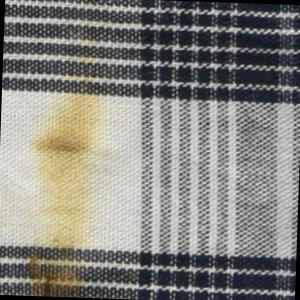Oil Stain: (15, 1, 124, 299)
